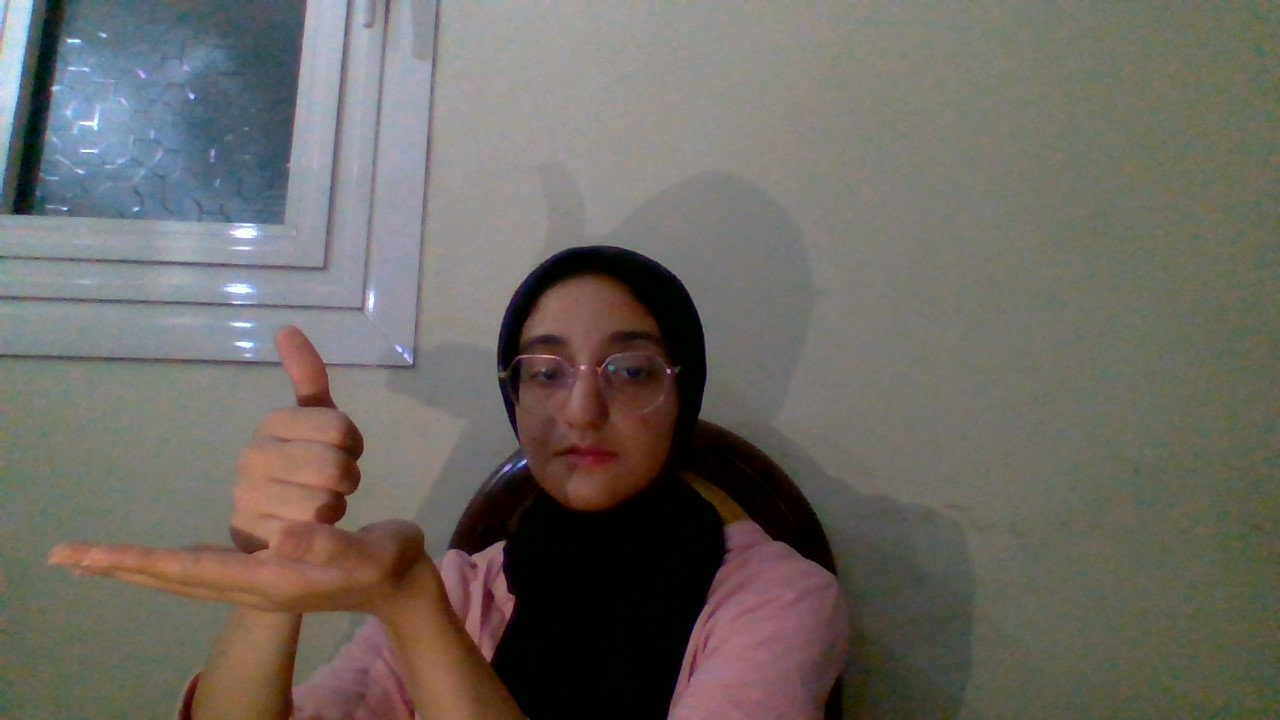help: (35, 300, 413, 667)
